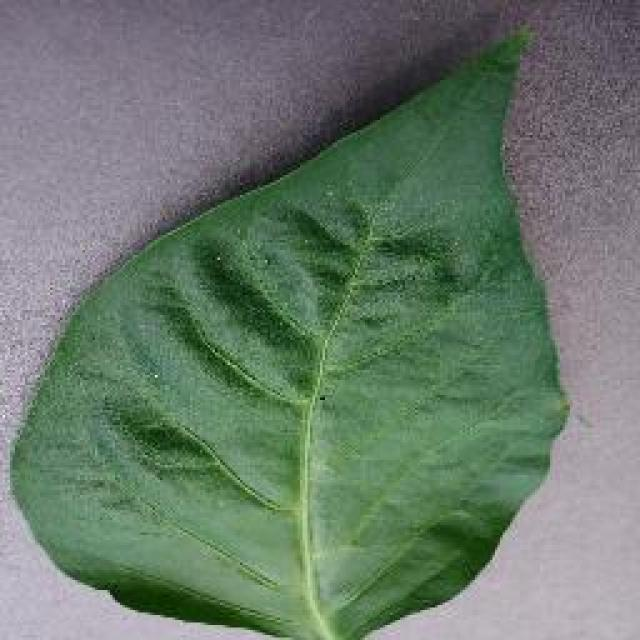Chilli_Healthy: (8, 20, 570, 638)
